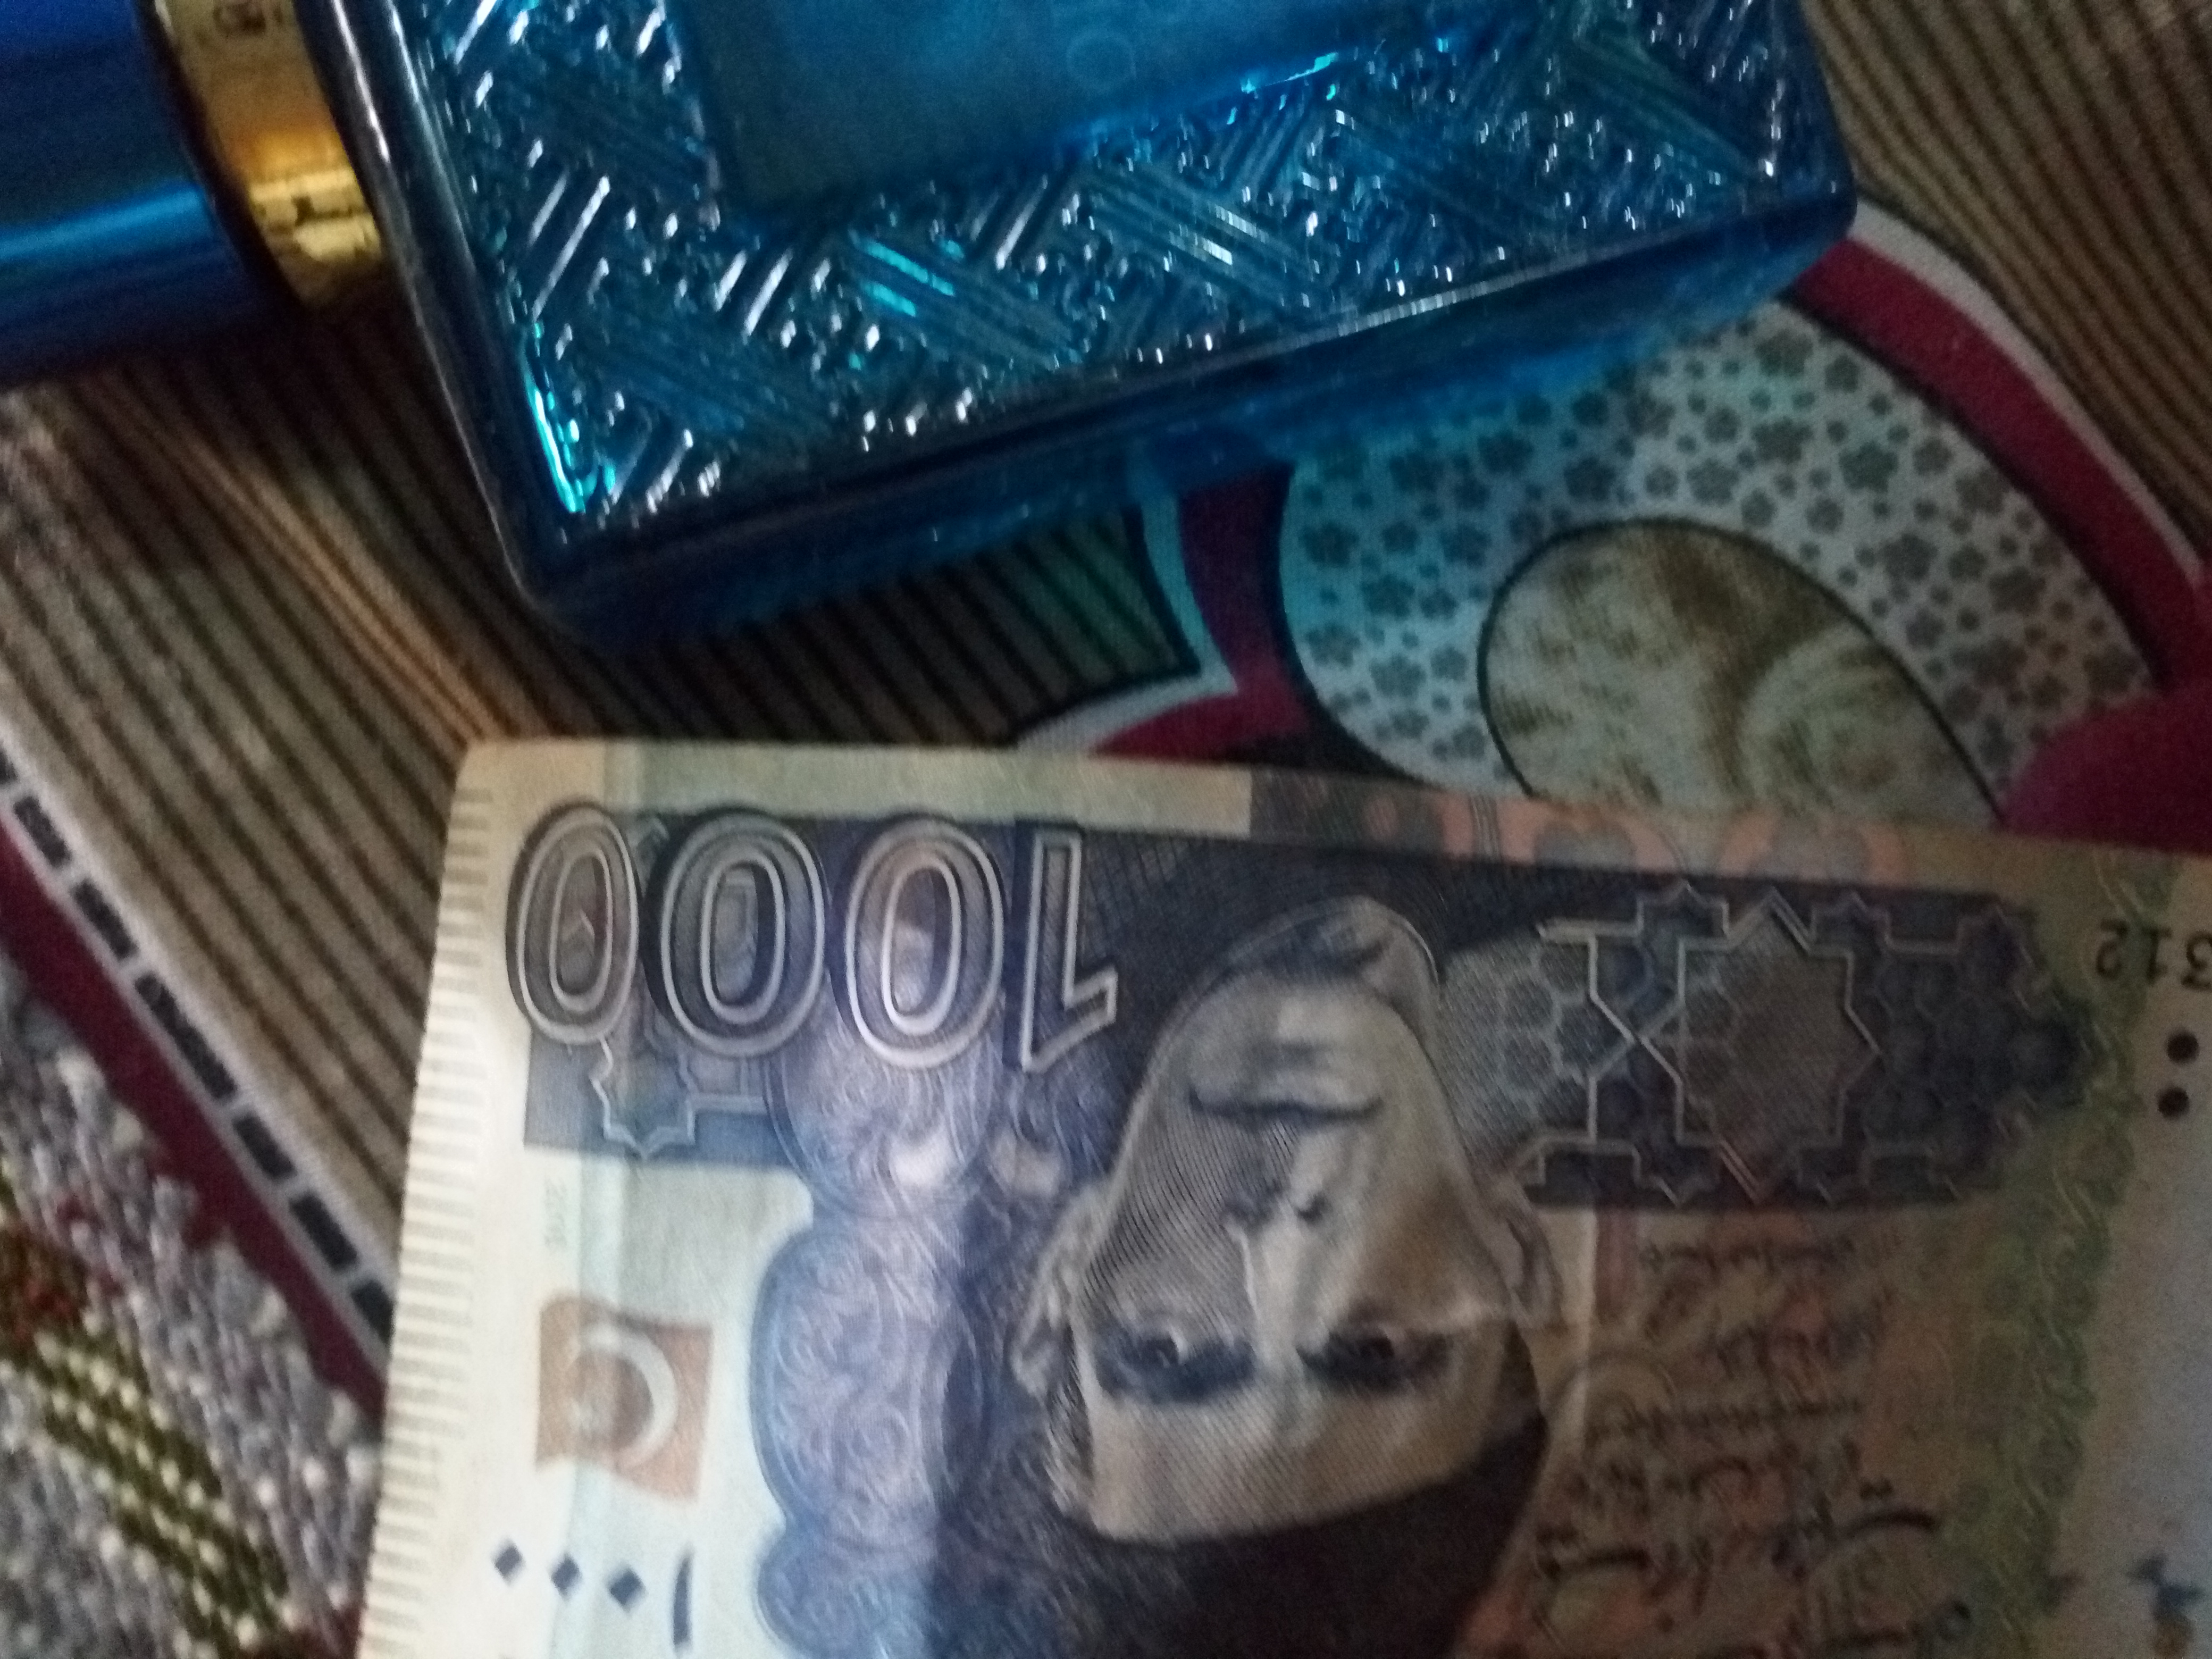1000 rupee: (216, 561, 2207, 1659)
